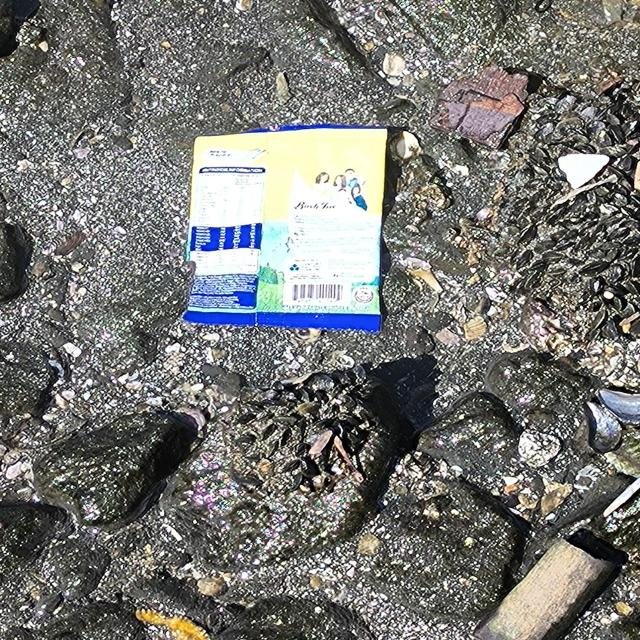plastic_waste: (179, 124, 392, 334)
